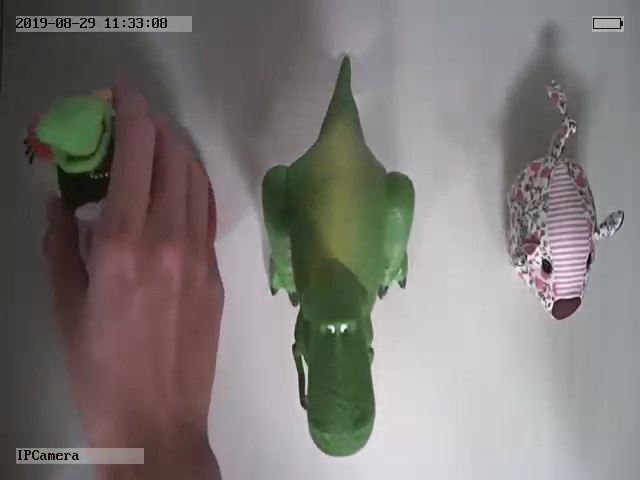pig: (504, 78, 624, 322)
rex: (259, 53, 417, 458)
